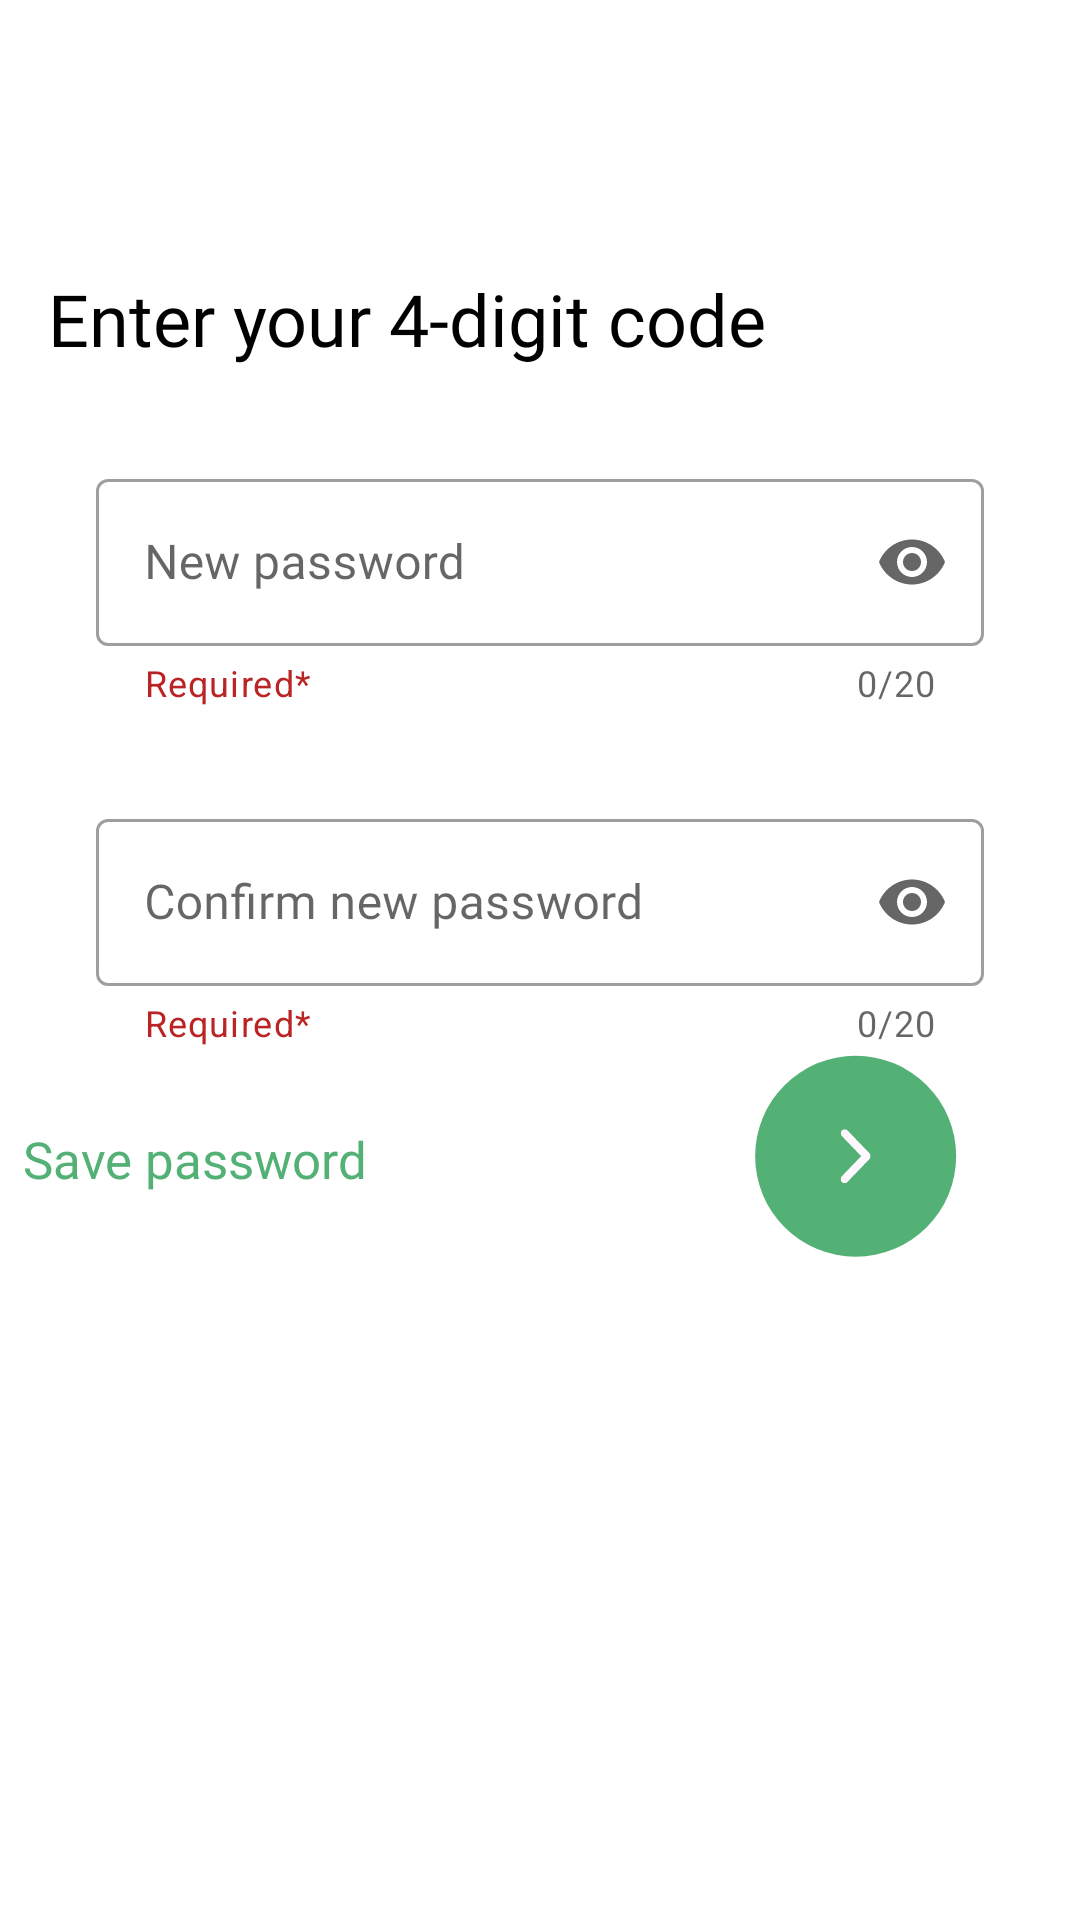

Screen size 1080*1920. Icon name, then its center in pixels as [x,y]:
next: [855,1156]
